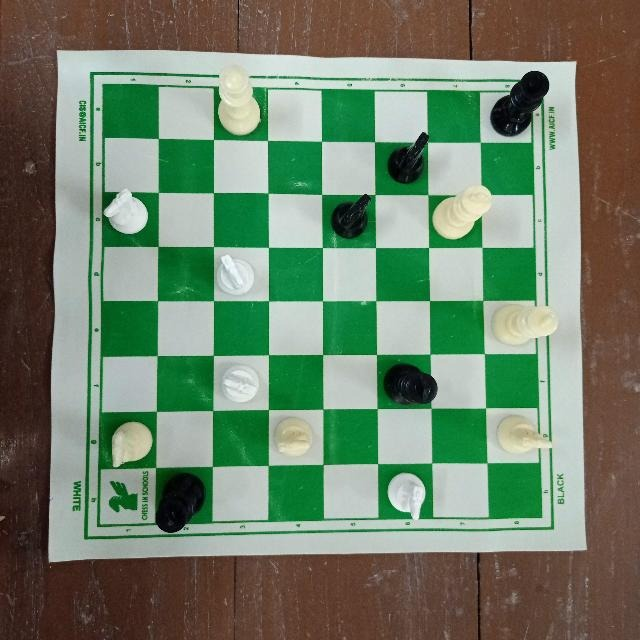black-king: (489, 68, 552, 137), (154, 470, 210, 542), (377, 355, 444, 413)
black-knight: (387, 124, 439, 187), (331, 194, 376, 242)
white-king: (429, 181, 495, 241), (489, 301, 565, 348)
white-knight: (383, 468, 431, 528), (493, 412, 558, 454), (214, 246, 262, 300), (105, 419, 155, 469), (100, 186, 148, 236), (271, 414, 316, 464), (218, 356, 262, 405)
white-queen: (216, 64, 262, 139)
